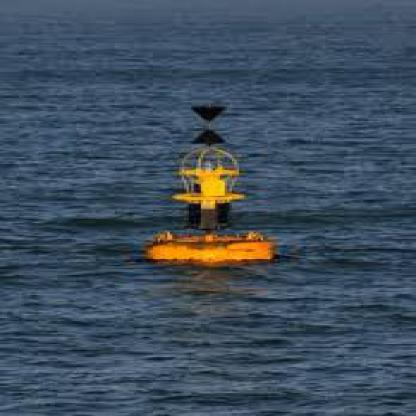buoy: (134, 98, 282, 268)
